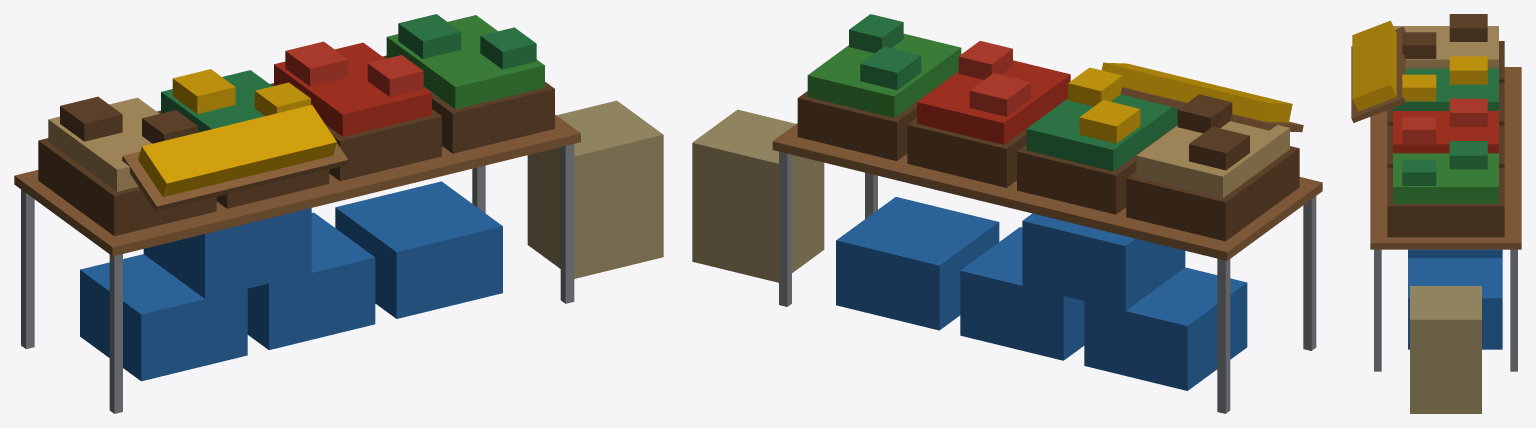
File: prop_produce-stand.glb
3 views of the same model, side by side, from view 1: azimuth 30°, elevation 25°; view 2: azimuth 150°, elevation 25°; view 3: azimuth 270°, elevation 25° (orthographic). The views are drawn at different scales.
Parts seen in each view (by area): view 1: body; view 2: body; view 3: body.
Boxes of the visible parts, x1,y1,x2,y2 form: body: [14, 14, 663, 413]; body: [692, 14, 1322, 413]; body: [1351, 14, 1521, 413].
Bounding box in the file's own units: 2.71 × 1.12 × 0.8998.
